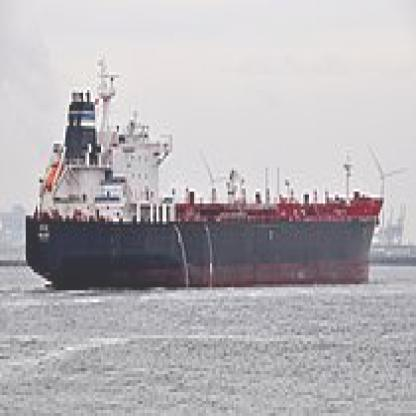Tanker: (16, 57, 392, 302)
